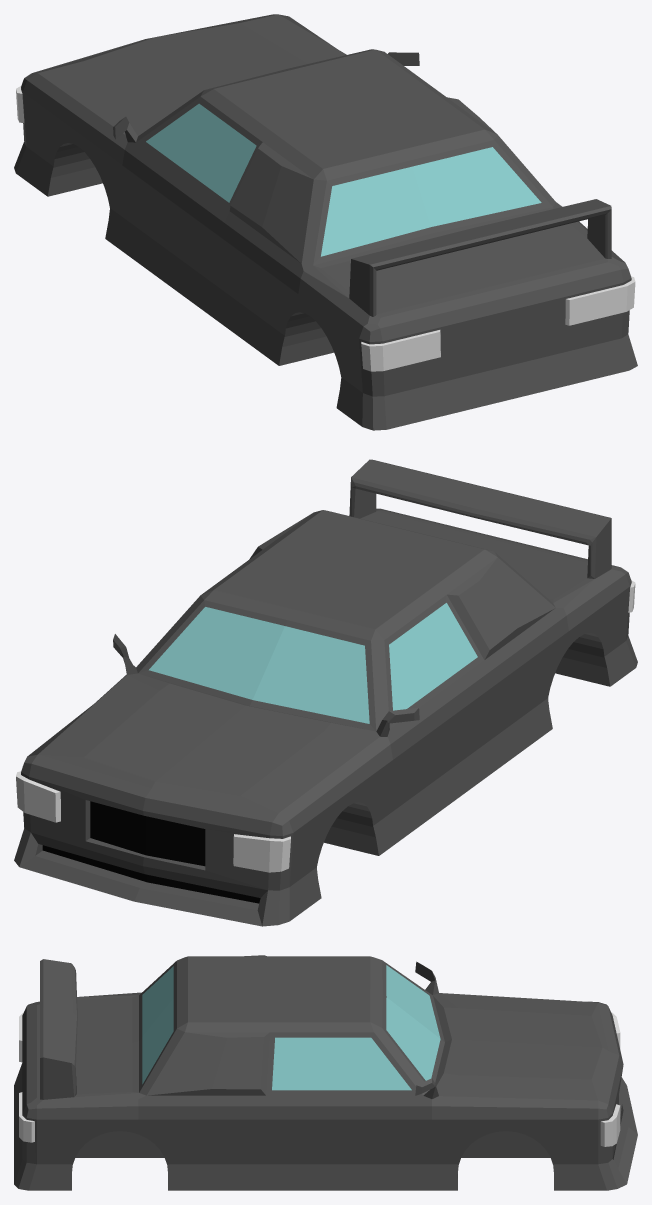
Rendered from cars.fbx.
The picture shows the model from 3 angles, top to bottom: view 1: azimuth 30°, elevation 25°; view 2: azimuth 150°, elevation 25°; view 3: azimuth 270°, elevation 25°; orthographic projection. The views are drawn at different scales.
Parts seen in each view (by area): view 1: Sedan; view 2: Sedan; view 3: Sedan.
Part boxes in pixels (x1,y1,x2,y2): Sedan: (14,14,637,430); Sedan: (14,459,637,926); Sedan: (14,955,637,1190).
Bounding box in the file's own units: 3.9 × 2.14 × 8.31.
